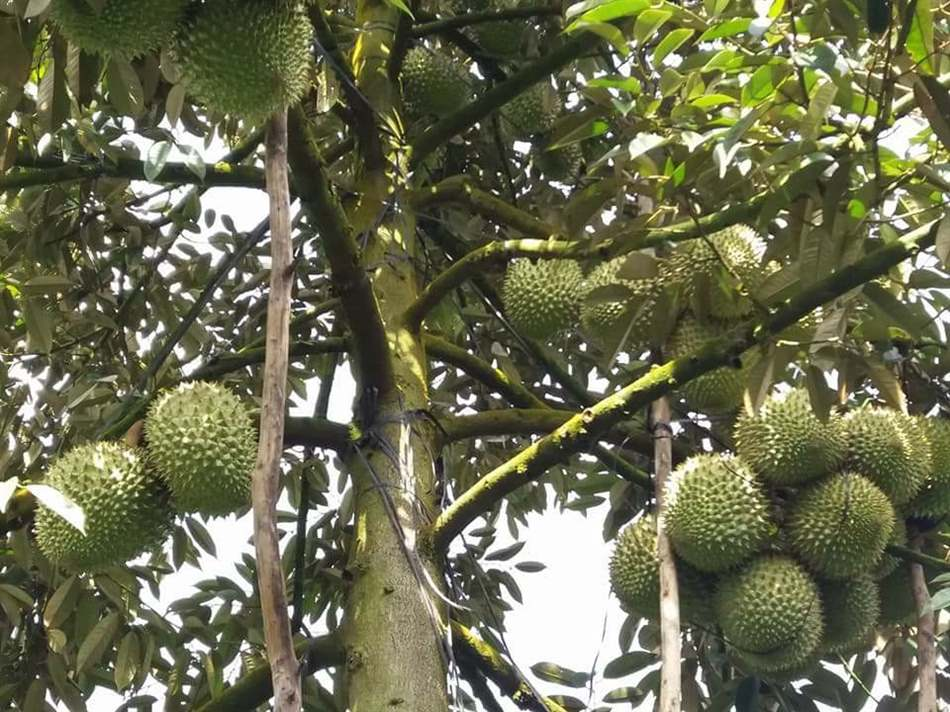sau_rieng: (129, 372, 279, 515), (658, 450, 793, 565), (851, 397, 950, 515), (495, 238, 589, 334)
